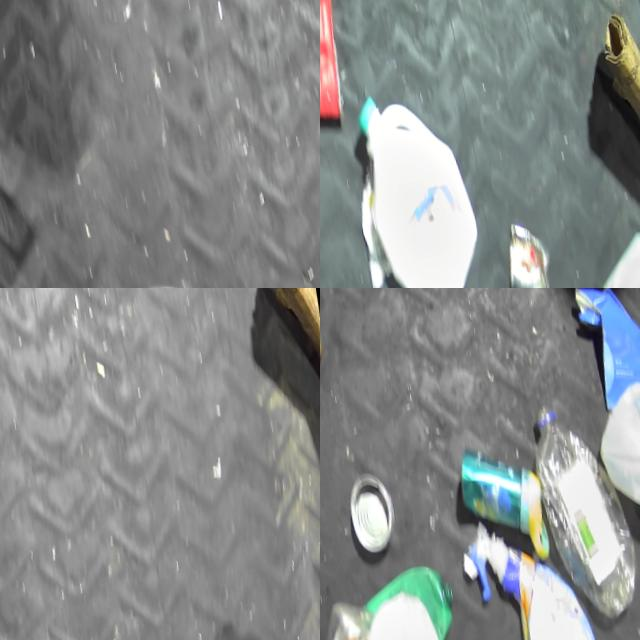can: (343, 471, 400, 562)
milk_jug: (337, 84, 491, 288), (589, 372, 640, 556), (346, 584, 490, 640)
plastic_bottle: (524, 396, 640, 637)
